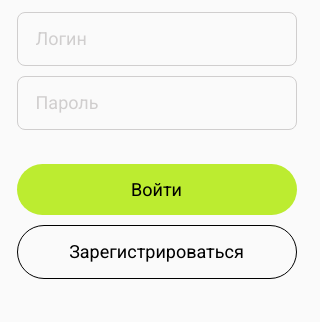
it: Форма входа › Подсказывает, почему пароль не подходит
Type "user@mail.ru" into the field labelled "Логин" at x=156, y=39, box [16,12,296,66]
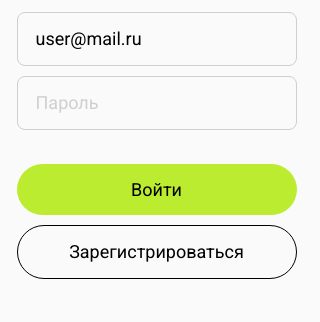
Type "abc" into the password field labelled "Пароль" at x=156, y=103, box [16,76,296,130]
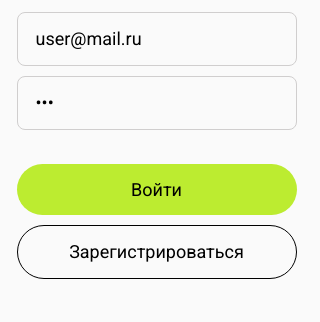
Click the button "Войти" at x=156, y=190, box [16,164,296,215]
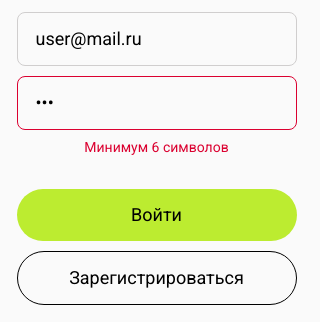
Expected: the text "Минимум 6 символов" is shown, [84,140,229,155]
